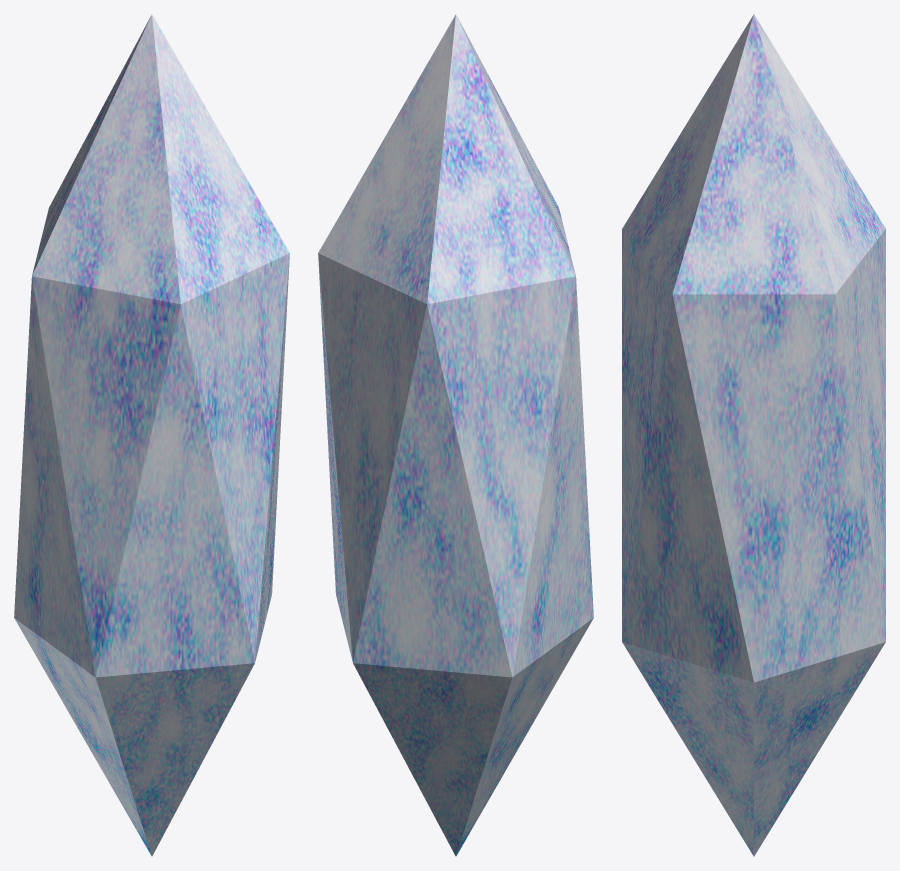
Rendered from Spawner.obj.
3 views of the same model, side by side, from view 1: azimuth 30°, elevation 25°; view 2: azimuth 150°, elevation 25°; view 3: azimuth 270°, elevation 25° (orthographic).
Parts seen in each view (by area): view 1: ICO球; view 2: ICO球; view 3: ICO球.
Boxes of the visible parts, x1,y1,x2,y2 form: ICO球: [14, 14, 289, 856]; ICO球: [318, 14, 593, 856]; ICO球: [622, 14, 885, 856].
Size of the model in its own units: 1.79 by 6 by 1.7.
1 material, 1 textured.
